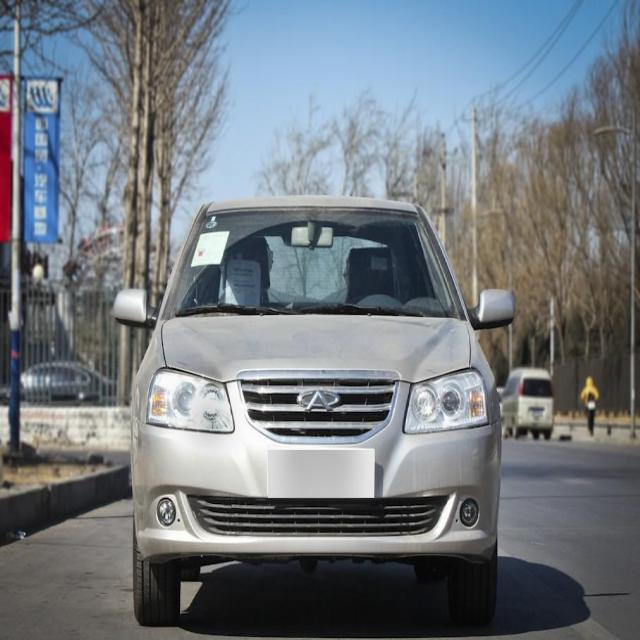front_bumper: (127, 413, 502, 565)
front_glass: (159, 208, 465, 324)
front_left_side_light: (401, 365, 488, 442)
front_left_side_mirror: (471, 286, 519, 334)
front_right_side_light: (143, 363, 238, 439)
front_right_side_mirror: (108, 286, 156, 328)
